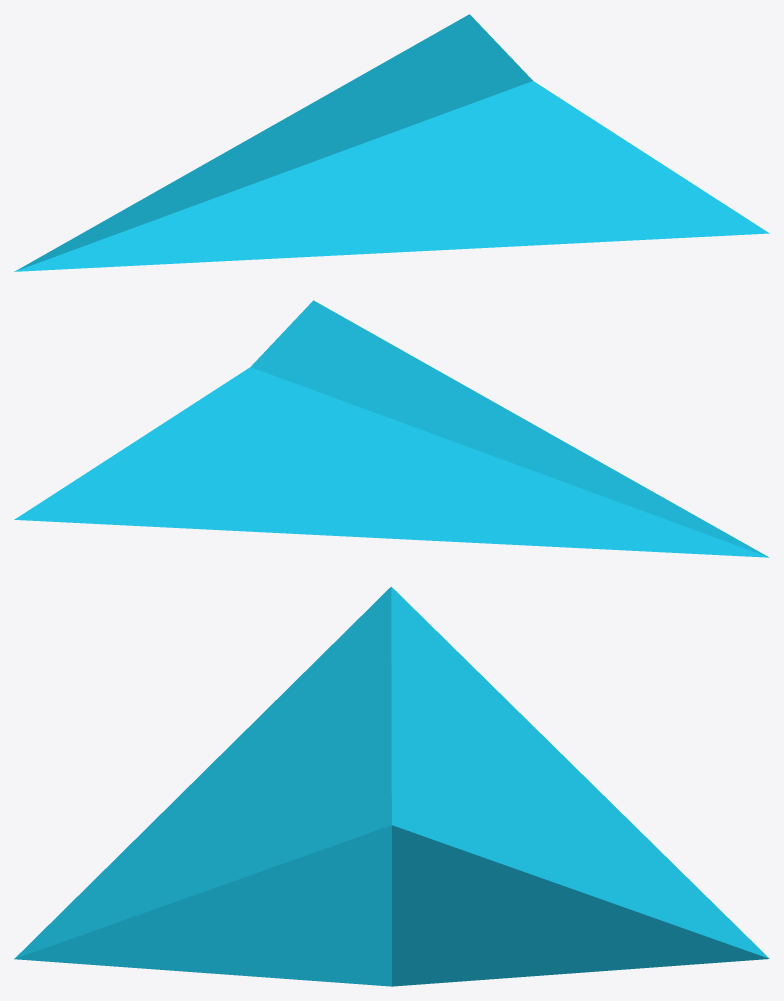
The model's file is arrowV2.glb.
3 renders of one model, top to bottom at view 1: azimuth 30°, elevation 25°; view 2: azimuth 150°, elevation 25°; view 3: azimuth 270°, elevation 25°, orthographic. The views are drawn at different scales.
Parts seen in each view (by area): view 1: group905816428; view 2: group905816428; view 3: group905816428.
Part boxes in pixels (box(x1,y1,x2,y2)): group905816428: box(14, 14, 769, 271); group905816428: box(14, 300, 769, 557); group905816428: box(14, 586, 769, 986).
Bounding box in the file's own units: 3.35 × 0.676 × 2.87.
